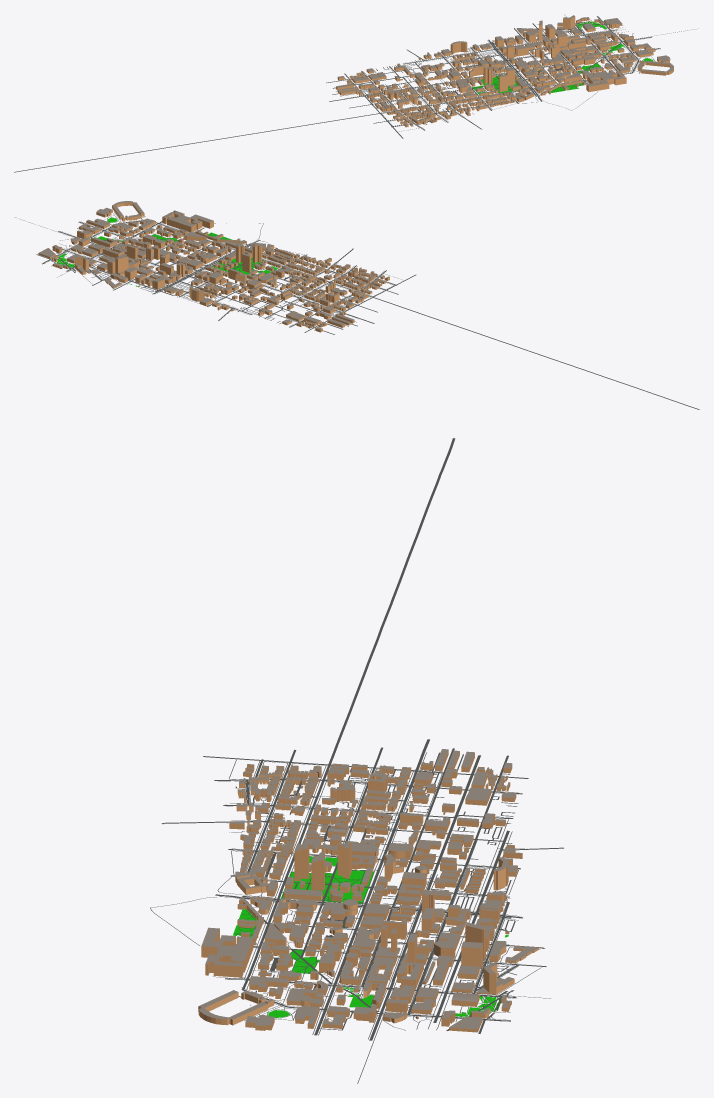
The model's file is map.fbx.
3 renders of one model, top to bottom at view 1: azimuth 30°, elevation 25°; view 2: azimuth 150°, elevation 25°; view 3: azimuth 270°, elevation 25°, orthographic. The views are drawn at different scales.
Visible parts, largest first — view 1: map.osm_buildings, map.osm_paths_footway, map.osm_roads_residential, map.osm_roads_primary, map.osm_roads_secondary, map.osm_vegetation, map.osm_roads_service; view 2: map.osm_buildings, map.osm_paths_footway, map.osm_roads_residential, map.osm_roads_secondary, map.osm_roads_primary, map.osm_vegetation, map.osm_roads_service; view 3: map.osm_buildings, map.osm_paths_footway, map.osm_roads_residential, map.osm_roads_primary, map.osm_vegetation, map.osm_roads_secondary, map.osm_roads_service.
Part boxes in pixels (bbox=[...]): map.osm_buildings: bbox=[336, 15, 673, 127]; map.osm_paths_footway: bbox=[344, 14, 698, 131]; map.osm_roads_residential: bbox=[326, 21, 610, 138]; map.osm_roads_primary: bbox=[329, 29, 660, 101]; map.osm_roads_secondary: bbox=[14, 16, 639, 172]; map.osm_vegetation: bbox=[472, 22, 653, 94]; map.osm_roads_service: bbox=[336, 21, 652, 124]; map.osm_buildings: bbox=[38, 201, 389, 332]; map.osm_paths_footway: bbox=[14, 212, 401, 326]; map.osm_roads_residential: bbox=[36, 248, 416, 334]; map.osm_roads_secondary: bbox=[42, 220, 699, 409]; map.osm_roads_primary: bbox=[58, 221, 374, 329]; map.osm_vegetation: bbox=[56, 217, 277, 286]; map.osm_roads_service: bbox=[51, 216, 364, 330]; map.osm_buildings: bbox=[198, 749, 539, 1032]; map.osm_paths_footway: bbox=[150, 752, 550, 1083]; map.osm_roads_residential: bbox=[161, 747, 563, 1033]; map.osm_roads_primary: bbox=[215, 739, 522, 1040]; map.osm_vegetation: bbox=[233, 856, 508, 1017]; map.osm_roads_secondary: bbox=[225, 438, 516, 1021]; map.osm_roads_service: bbox=[235, 752, 518, 1030].
Size of the model in its own units: 85748 by 1944 by 23257.
